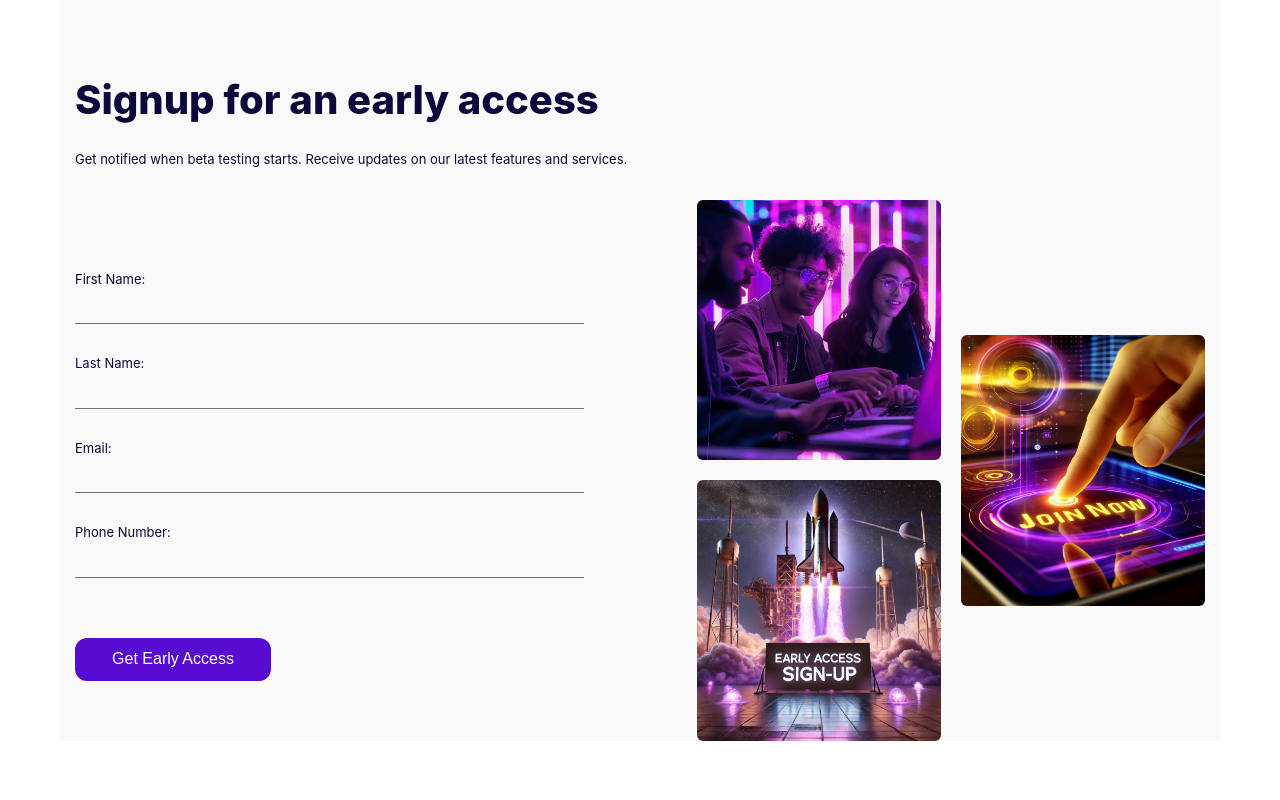
Test case: Contact Component › submits form data correctly without opening ContactForm modal
Type "John" into the field labelled "First Name:". click: (329, 309)
box: x1=75 y1=294 x2=584 y2=324
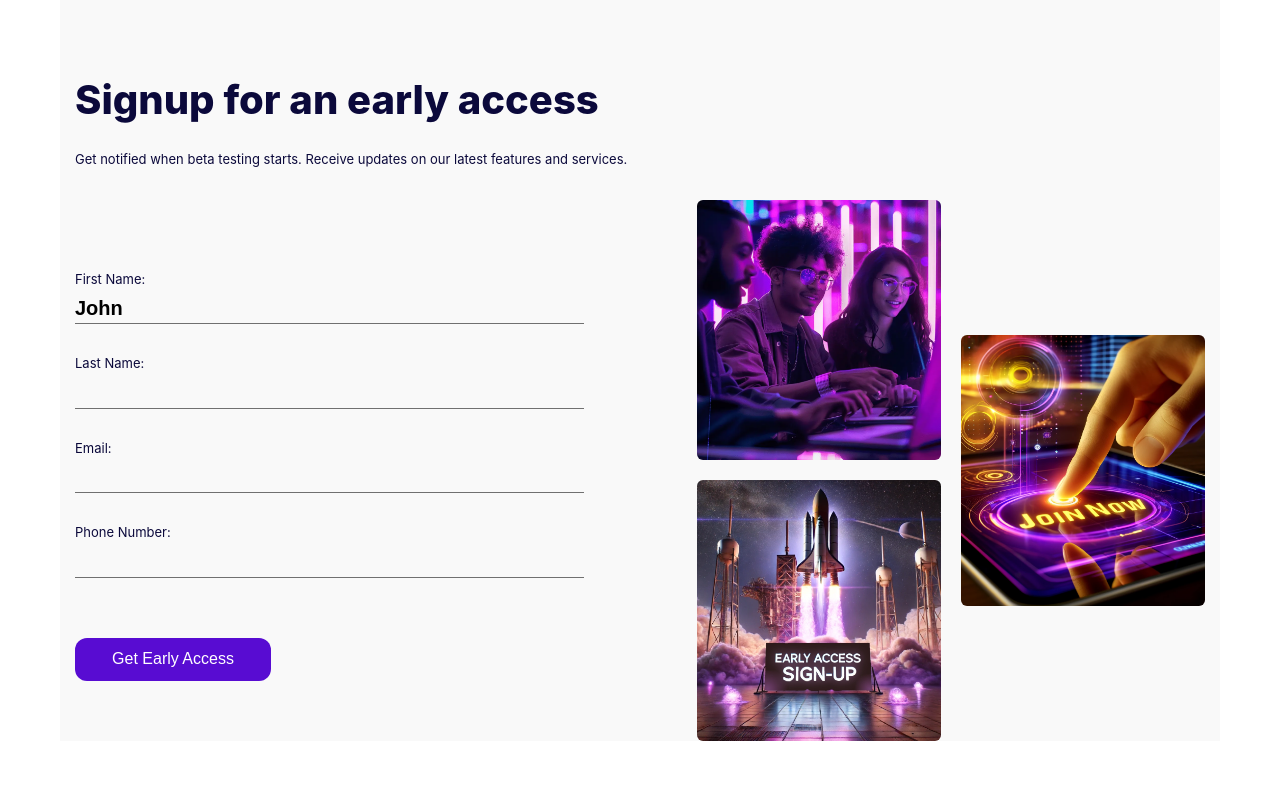
Type "Doe" into the field labelled "Last Name:". click: (329, 394)
box: x1=75 y1=378 x2=584 y2=408
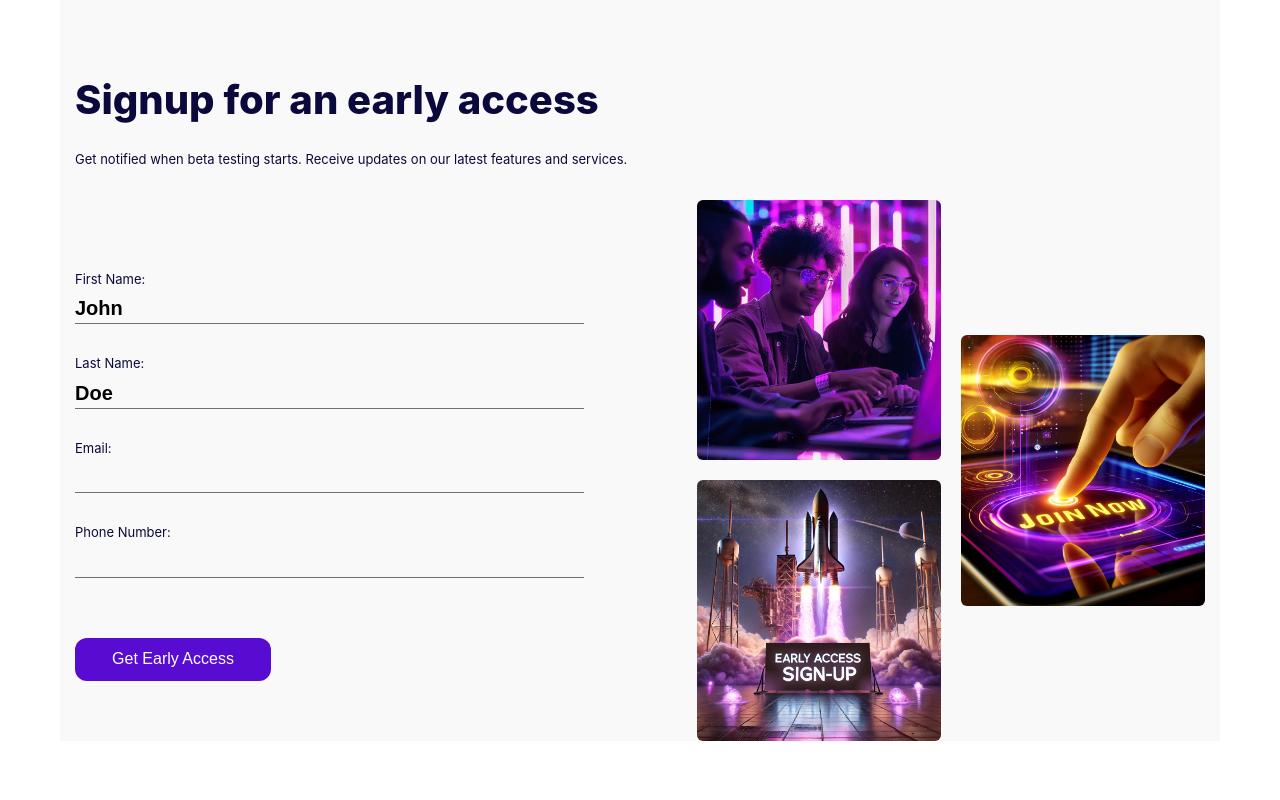
Type "john@example.com" into the field labelled "Email:". click: (329, 478)
box: x1=75 y1=463 x2=584 y2=493
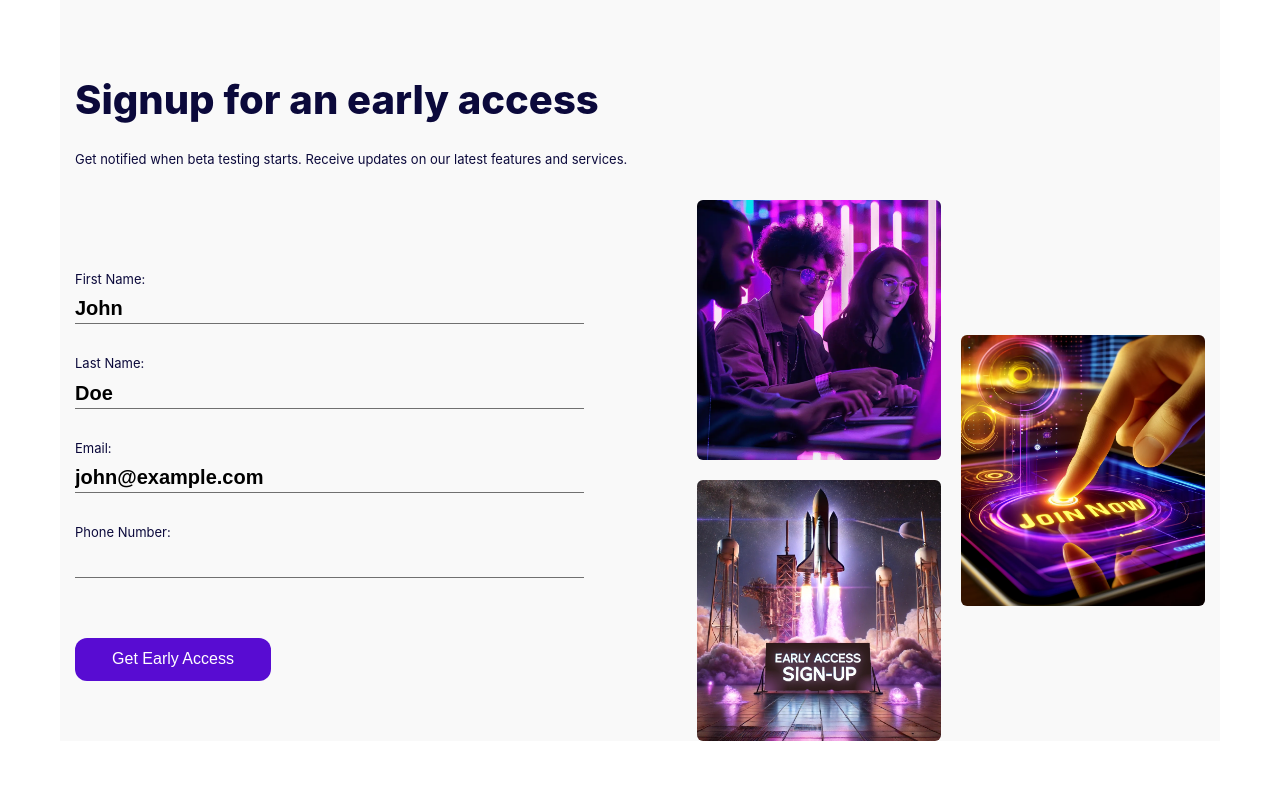
Type "1234567890" into the field labelled "Phone Number:". click: (329, 562)
box: x1=75 y1=548 x2=584 y2=578
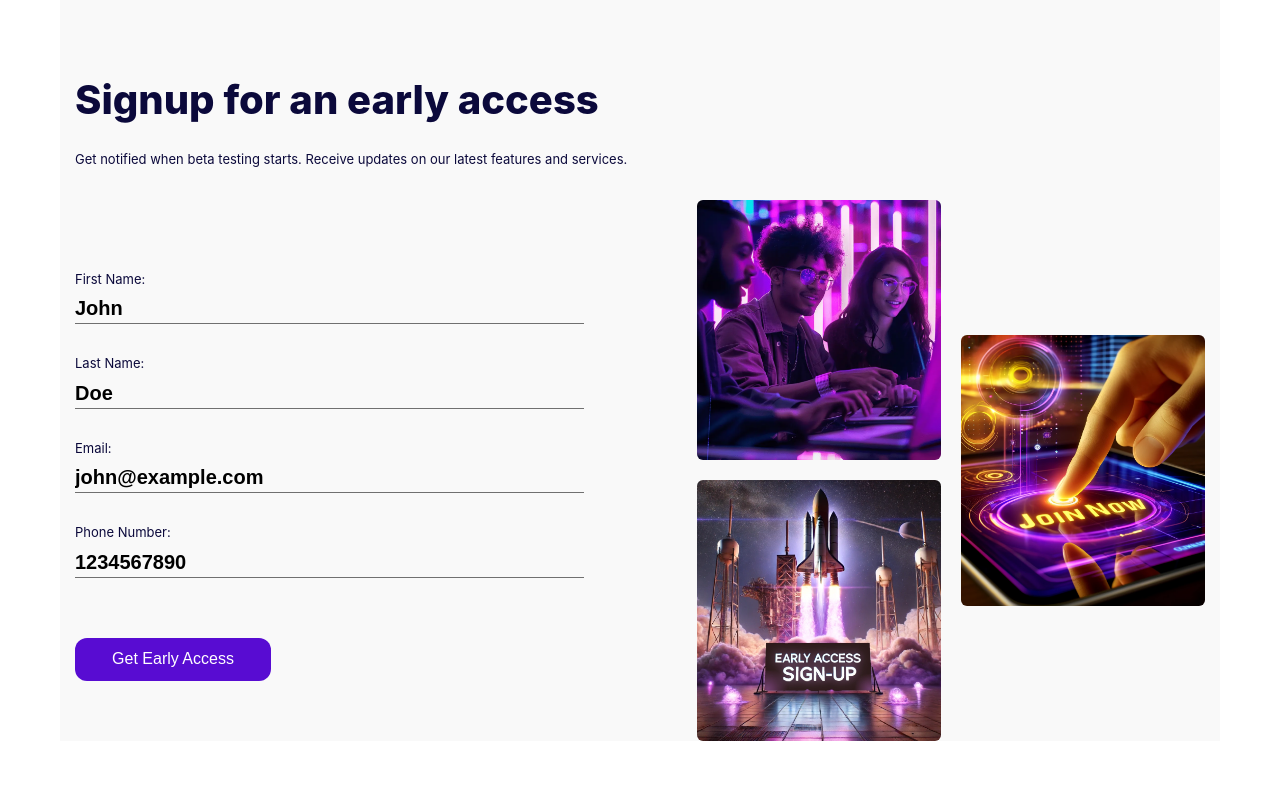
Click the button "Get Early Access". click: click(173, 659)
box: x1=75 y1=638 x2=271 y2=681
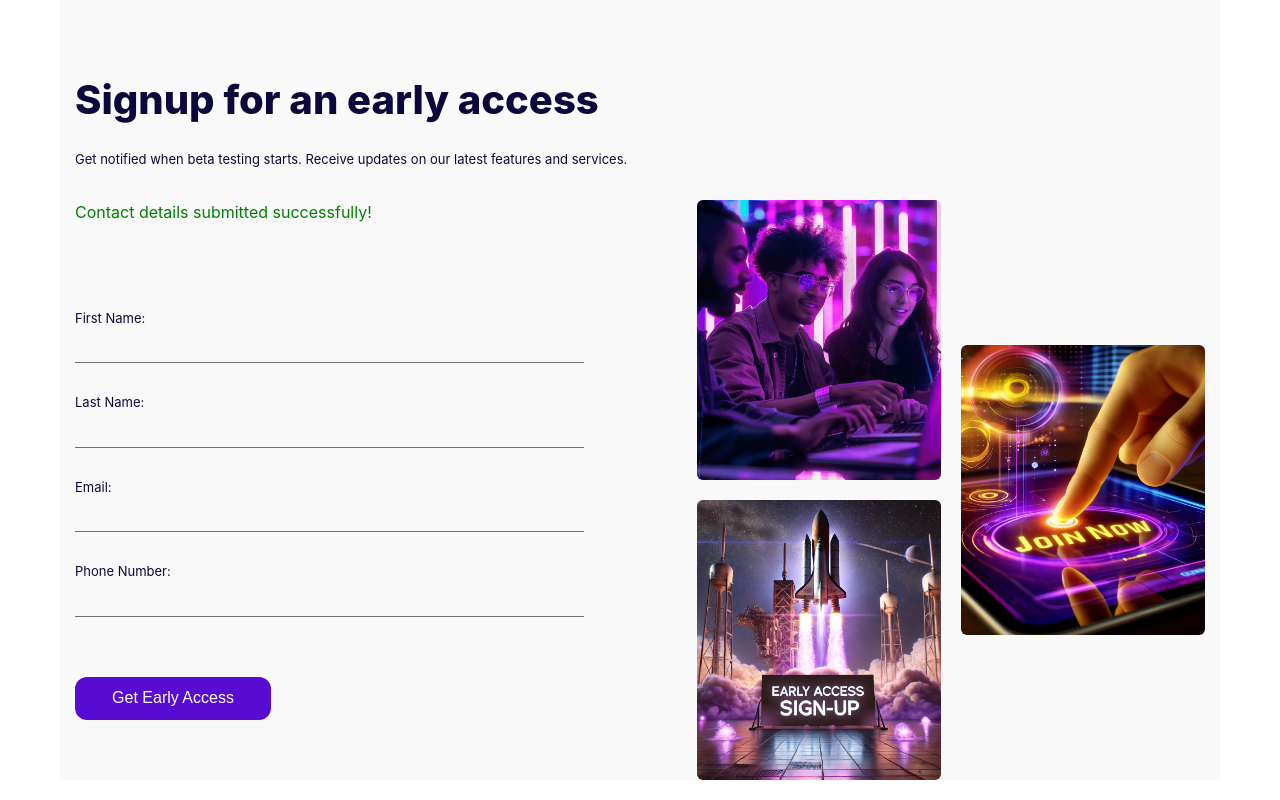
Expected: the text "Contact details submitted successfully!" is shown, x1=75 y1=202 x2=372 y2=222
